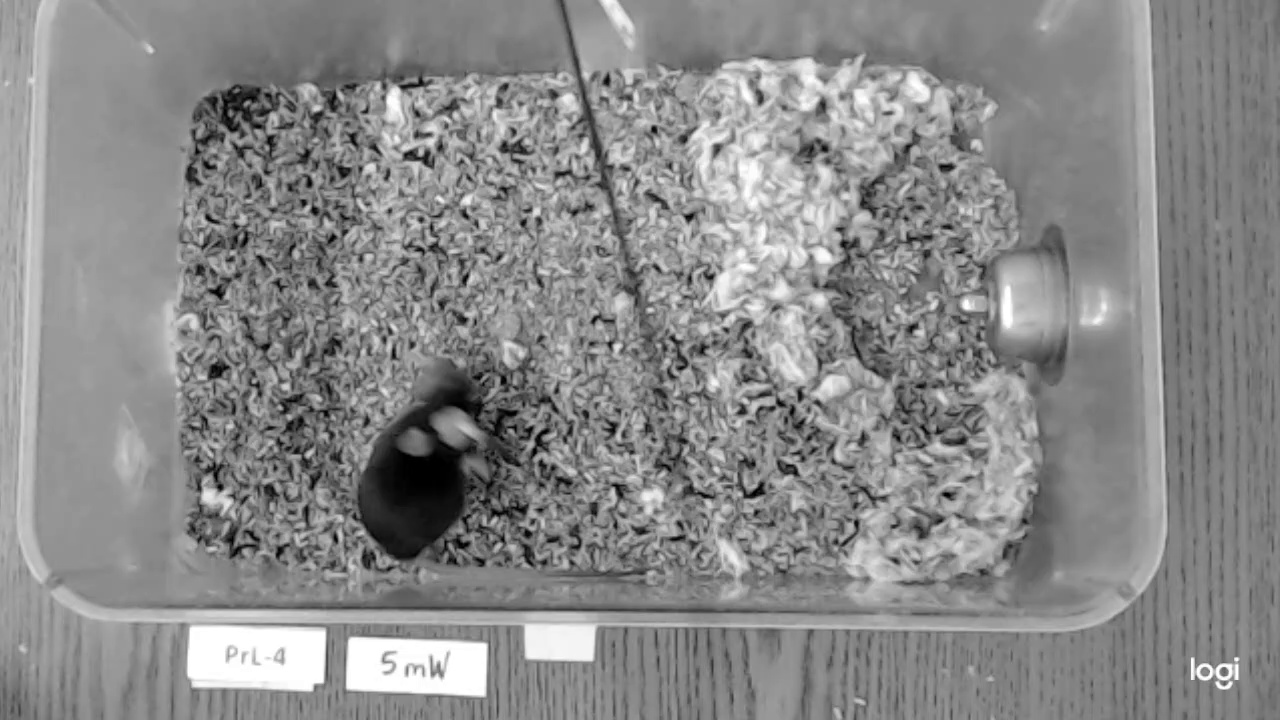parent-mice: (356, 392, 483, 559)
